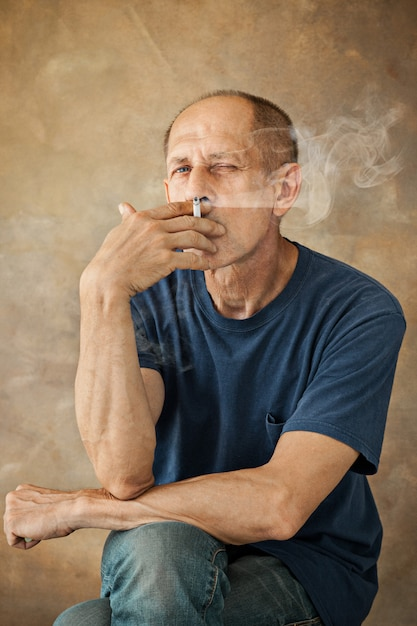cigarette: (189, 194, 204, 219)
